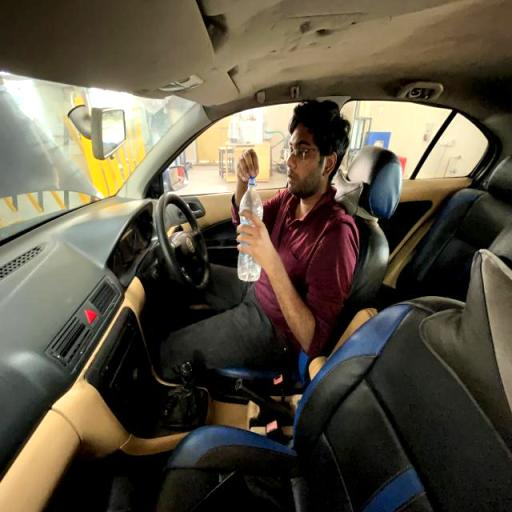Drinking: (202, 96, 365, 355)
